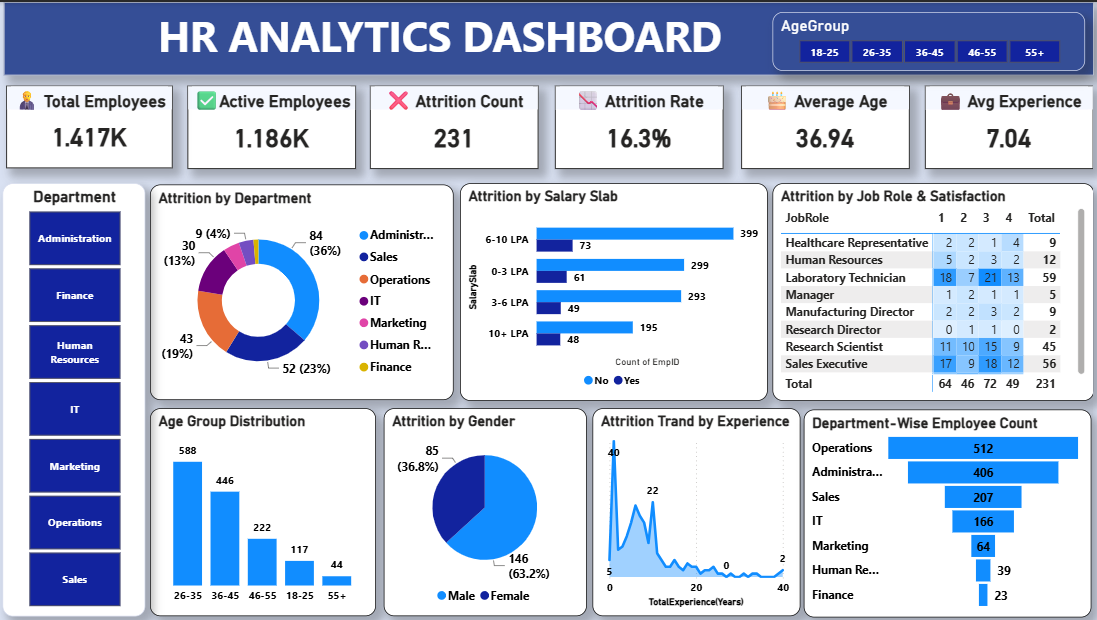

This screenshot's page, from the dashboard's own definition file:
{"tool":"powerbi","page":{"name":"Page 1","canvas":[1280,720],"ordinal":0},"visuals":[{"type":"textbox","box":[10,0,1259,85],"z":0},{"type":"card","title":"🎂 Average Age","fields":{"Values":["Avg(HR_Analytics-4.Age)"]},"box":[861,96,194,96],"z":1000},{"type":"card","title":"✅Active Employees","fields":{"Values":["Sum(HR_Analytics-4.EmployeeCount)"]},"box":[222,96,194,96],"z":2000},{"type":"card","title":"❌ Attrition Count","fields":{"Values":["Sum(HR_Analytics-4.AttritionCount)"]},"box":[433,96,194,96],"z":3000},{"type":"card","title":"📉 Attrition Rate","fields":{"Values":["HR_Analytics-4.Attrition Rate %"]},"box":[647,96,194,96],"z":4000},{"type":"card","title":"💼 Avg Experience","fields":{"Values":["Avg(HR_Analytics-4.YearsatCompany)"]},"box":[1073,96,194,96],"z":5000},{"type":"card","title":"👨💼 Total Employees","fields":{"Values":["CountNonNull(HR_Analytics-4.EmpID)"]},"box":[13,96,192,95],"z":6000},{"type":"donutChart","title":"Attrition by Department","fields":{"Category":["HR_Analytics-4.Department"],"Y":["Sum(HR_Analytics-4.AttritionCount)"]},"box":[179,210,350,249],"z":7000},{"type":"clusteredBarChart","title":"Attrition by Salary Slab","fields":{"Category":["HR_Analytics-4.SalarySlab"],"Series":["HR_Analytics-4.Attrition"],"Y":["CountNonNull(HR_Analytics-4.EmpID)"]},"box":[537,209,355,251],"z":8000},{"type":"pivotTable","title":"Attrition by Job Role & Satisfaction","fields":{"Columns":["HR_Analytics-4.JobSatisfaction"],"Rows":["HR_Analytics-4.JobRole"],"Values":["Sum(HR_Analytics-4.AttritionCount)"]},"box":[898,209,371,251],"z":9000},{"type":"columnChart","title":"Age Group Distribution","fields":{"Category":["HR_Analytics-4.AgeGroup"],"Y":["Sum(HR_Analytics-4.EmployeeCount)"]},"box":[179,469,261,240],"z":10000},{"type":"pieChart","title":"Attrition by Gender","fields":{"Category":["HR_Analytics-4.Gender"],"Y":["Sum(HR_Analytics-4.AttritionCount)"]},"box":[448,469,234,240],"z":11000},{"type":"areaChart","title":"Attrition Trand by Experience","fields":{"Category":["HR_Analytics-4.TotalExperience(Years)"],"Y":["Sum(HR_Analytics-4.AttritionCount)"]},"box":[689,469,240,240],"z":12000},{"type":"funnel","title":"Department-Wise Employee Count","fields":{"Category":["HR_Analytics-4.Department"],"Y":["CountNonNull(HR_Analytics-4.EmpID)"]},"box":[933,470,332,240],"z":13000},{"type":"slicer","title":"Department","fields":{"Values":["HR_Analytics-4.Department"]},"box":[9,209,165,500],"z":14000},{"type":"slicer","title":"AgeGroup","fields":{"Values":["HR_Analytics-4.AgeGroup"]},"box":[898,12,361,68],"z":15000}]}

Visuals, with their boxes in screenshot pixels (x1, y1, x2, y2), scaled from the page's 1280x720 canvas onto the 1097x620 screenshot:
textbox: 9/0/1088/73
"🎂 Average Age" card: 738/83/904/165
"✅Active Employees" card: 190/83/357/165
"❌ Attrition Count" card: 371/83/537/165
"📉 Attrition Rate" card: 554/83/721/165
"💼 Avg Experience" card: 920/83/1086/165
"👨💼 Total Employees" card: 11/83/176/164
"Attrition by Department" donutChart: 153/181/453/395
"Attrition by Salary Slab" clusteredBarChart: 460/180/764/396
"Attrition by Job Role & Satisfaction" pivotTable: 770/180/1088/396
"Age Group Distribution" columnChart: 153/404/377/611
"Attrition by Gender" pieChart: 384/404/584/611
"Attrition Trand by Experience" areaChart: 590/404/796/611
"Department-Wise Employee Count" funnel: 800/405/1084/611
"Department" slicer: 8/180/149/611
"AgeGroup" slicer: 770/10/1079/69
